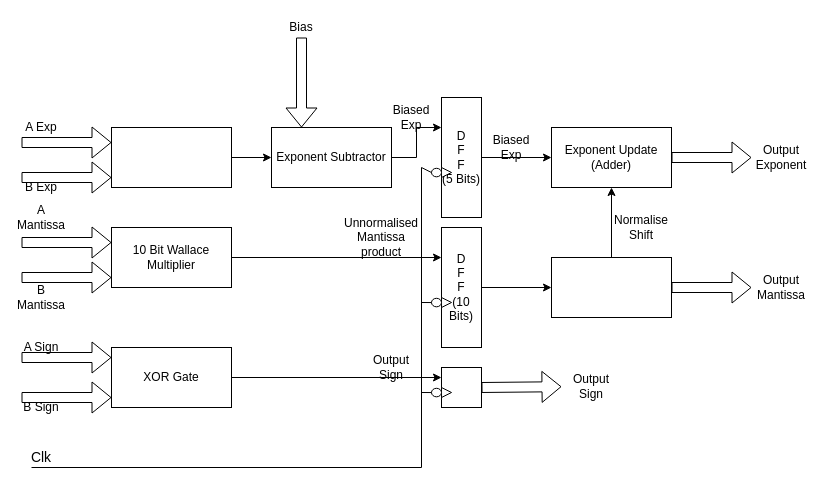
Some shapes in this 824 by 486 pixel diagram are drawn without their labels. Here are the shapes that lost their labels. From the top down, the centre of each, then its label:
At (171,157): "5 Bit Recursive Doubling Carry Lookahead Adder".
At (611,287): "Normaliser".
At (461,387): "DFF".
